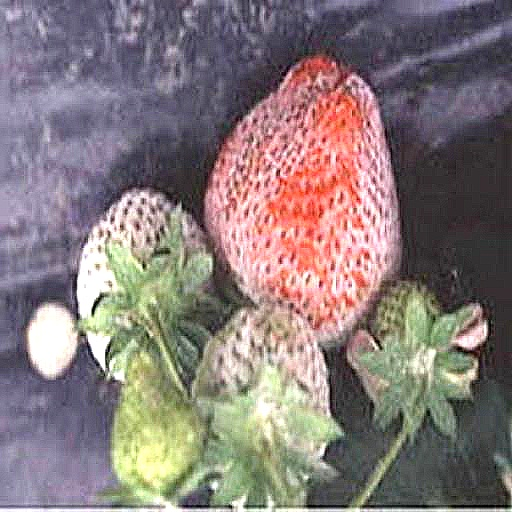Powdery Mildew Fruit: (109, 160, 307, 460), (166, 0, 324, 210), (286, 129, 435, 324)
